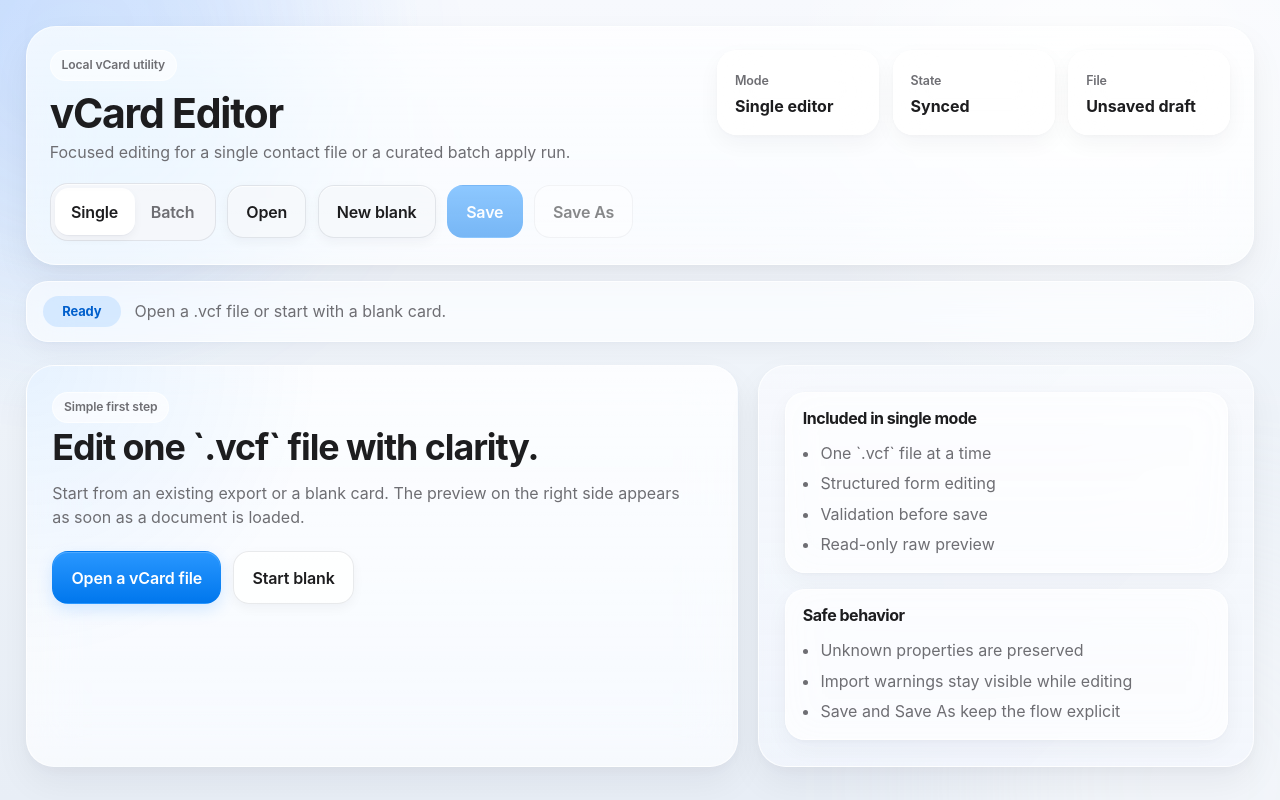
it: App › switches to batch mode and imports multiple files into the table
This screenshot has width=1280, height=800.
Click the tab "Batch".
click(173, 212)  # box [134,188,211,235]
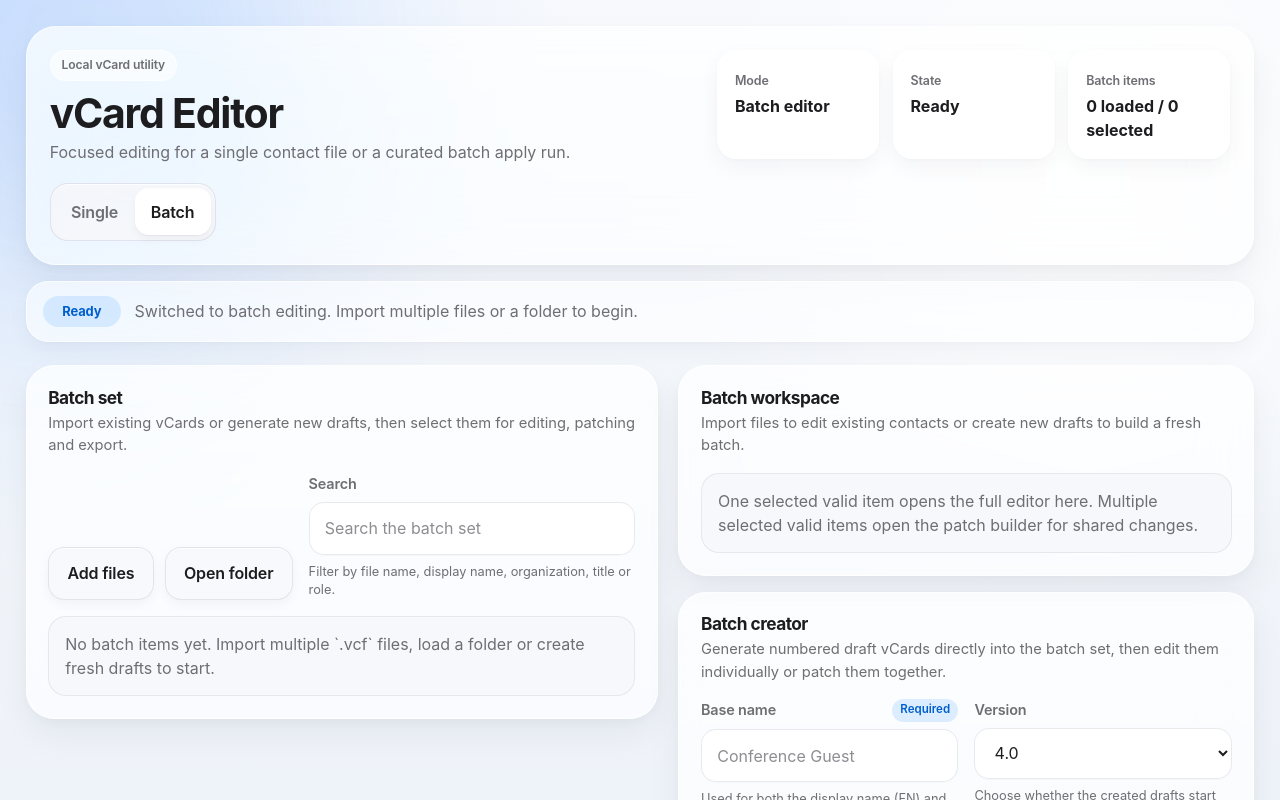
Click the button "Add files".
click(101, 573)  # box [48,547,154,600]
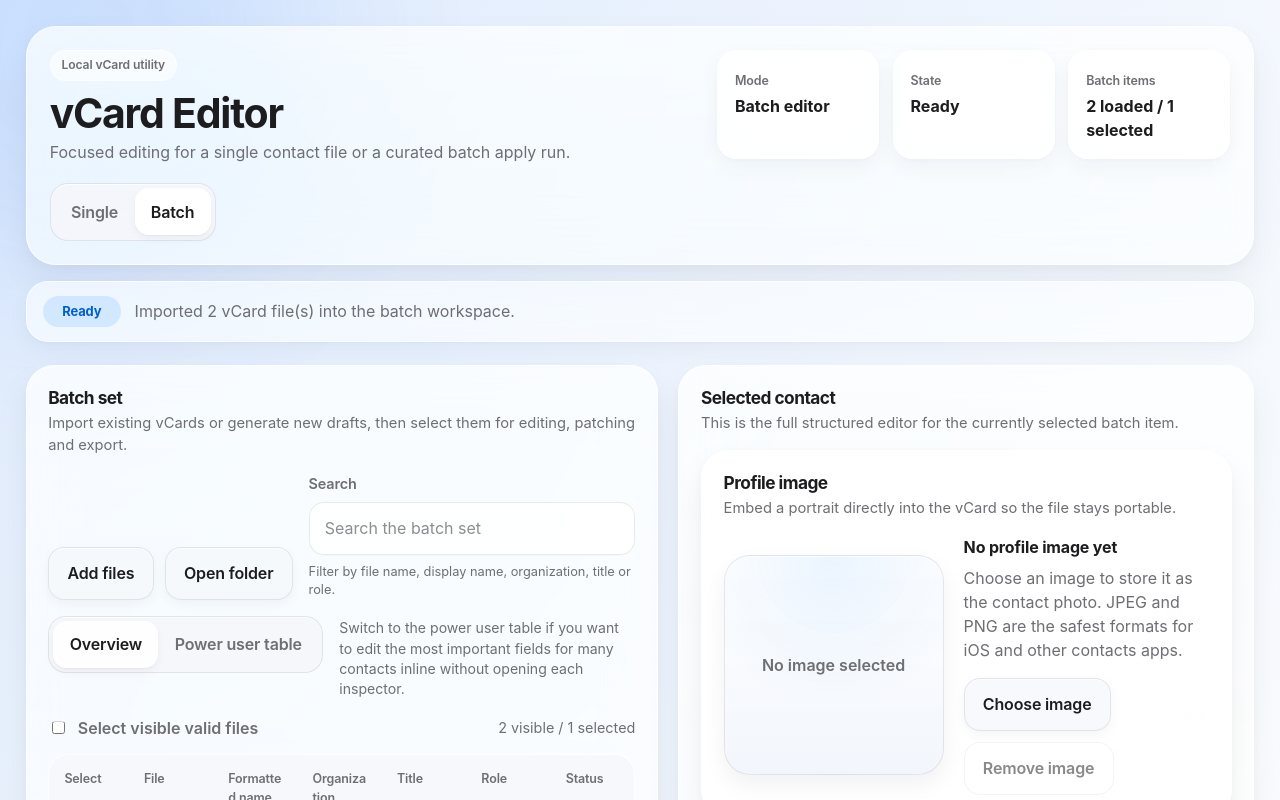
Check: the text "Imported 2 vCard file(s) into the batch workspace." is shown, box [135,299,515,323]
